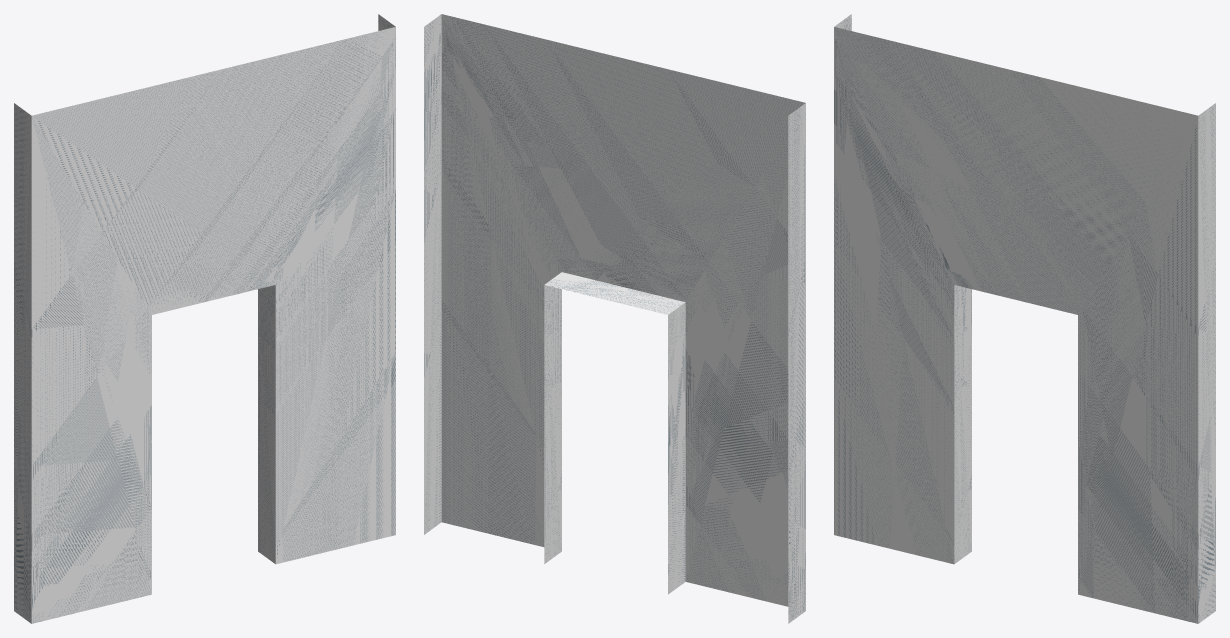
Rendered from BlockWall_os_[300x400x025]_102x220_doorway.dae.
3 renders of one model, left to right at view 1: azimuth 30°, elevation 25°; view 2: azimuth 150°, elevation 25°; view 3: azimuth 330°, elevation 25°, orthographic.
Parts seen in each view (by area): view 1: group_0; view 2: group_0; view 3: group_0.
Part boxes in pixels (x1,y1,x2,y2): group_0: (14,14,395,623); group_0: (424,14,805,623); group_0: (834,14,1215,623).
Bounding box in the file's own units: 118 × 9.84 × 157.
